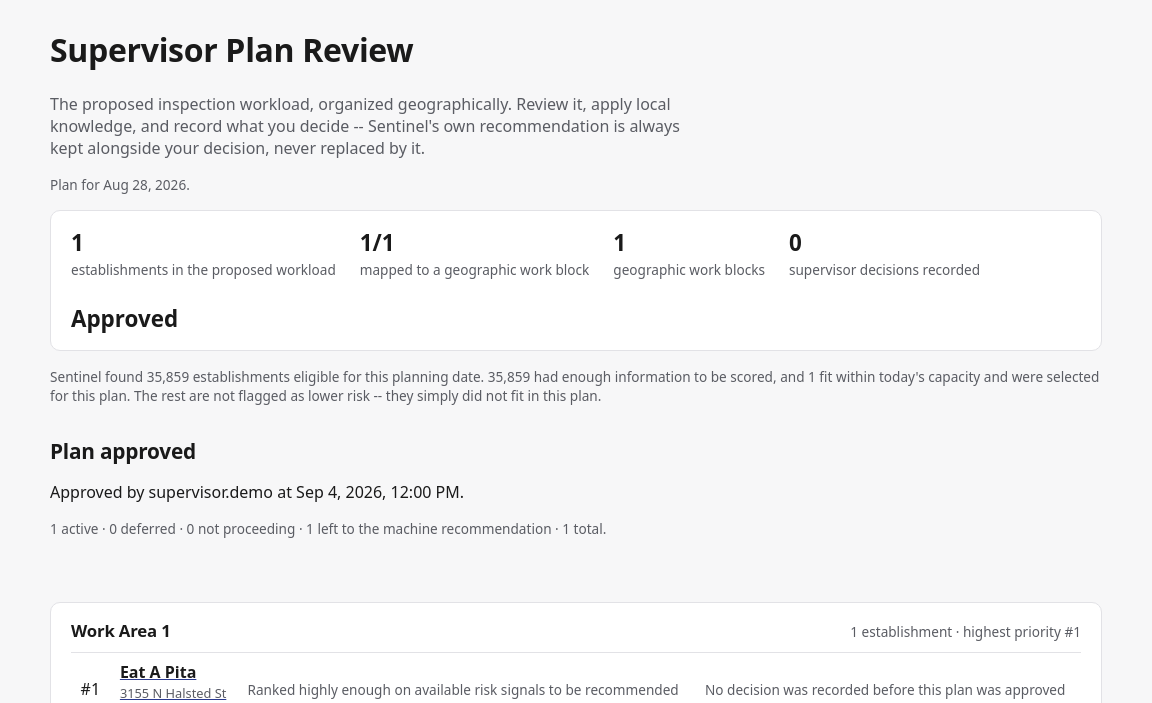
Test case: SupervisorPlanReviewPage › shows the approved state, with counts, once the plan has been approved
Expected: the heading "Plan approved" is shown, 50,437 -> 196,465
Expected: the text "Approved by supervisor.demo at Sep 4, 2026, 12:00 PM." is shown, 50,481 -> 464,503
Click the text "No decision was recorded before this plan was approved".
click(885, 690)  # box 705,680 -> 1065,700
(page scrolled)
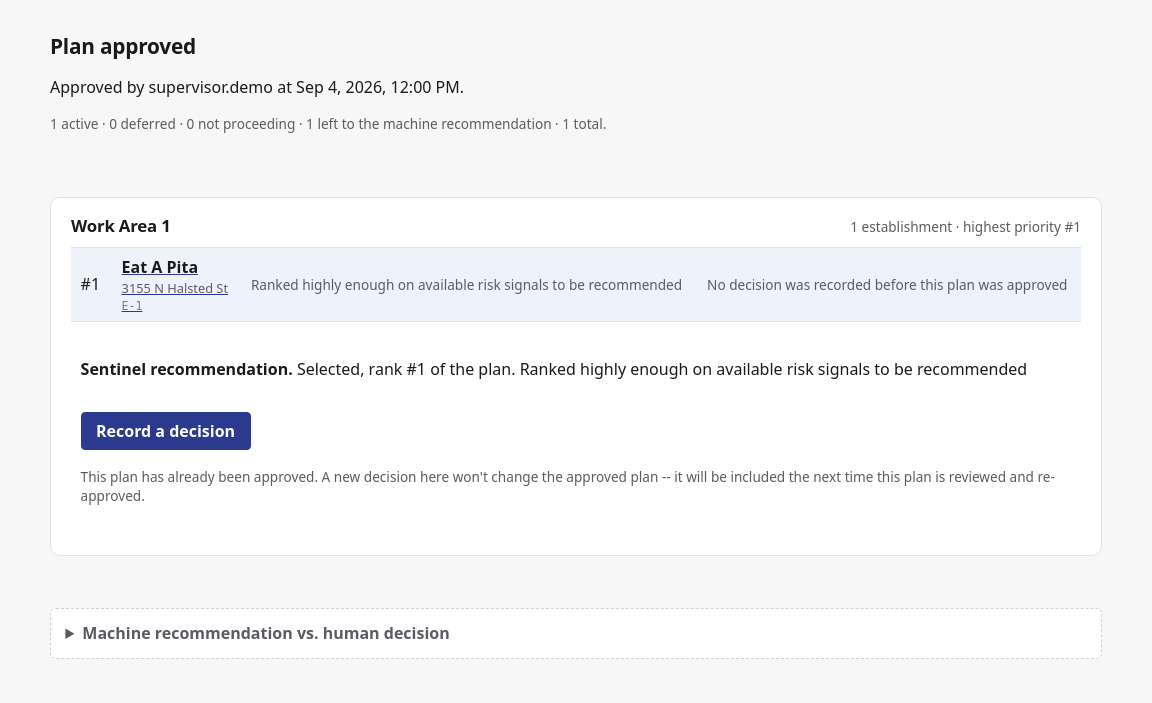
Result: the text "This plan has already been approved" is shown at 81,467 -> 1055,505
